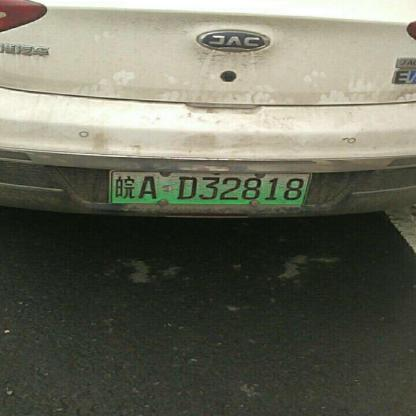lp: (110, 172, 308, 203)
